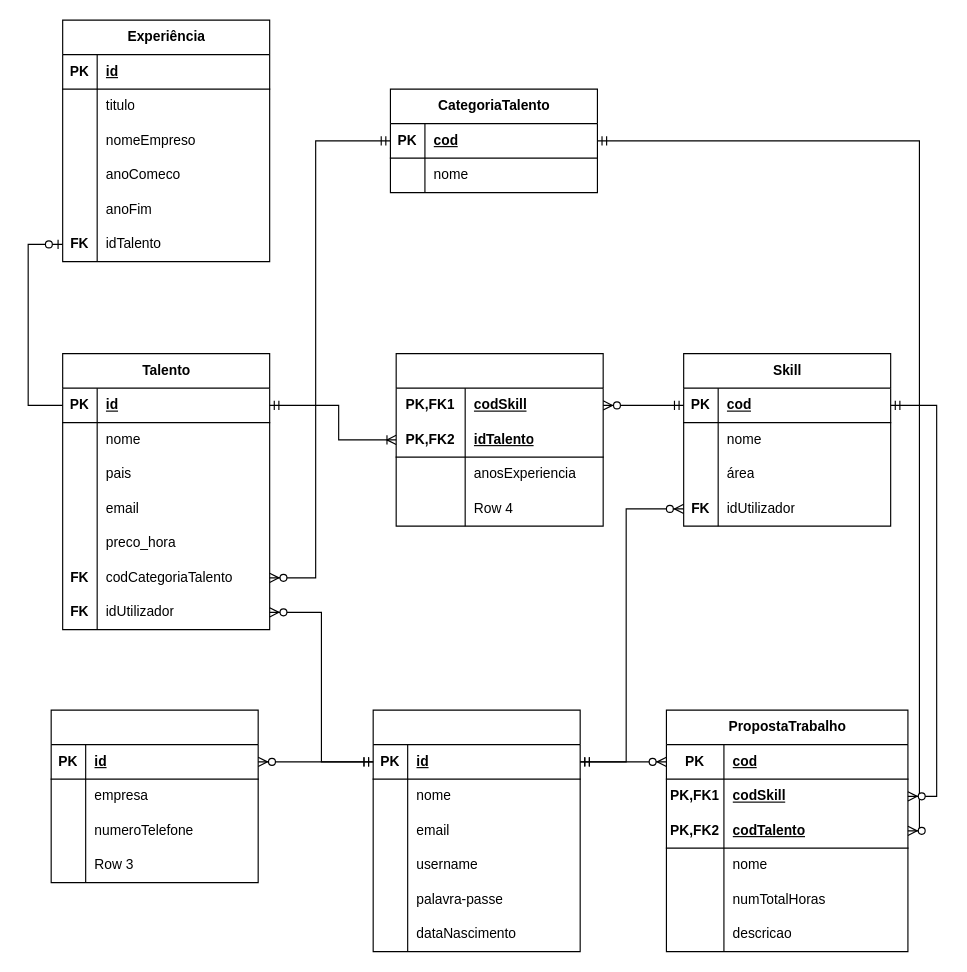
This 967x972 diagram has some shape labels left out. The shapes that lost their labels are listed below. From the top down, each one's box as (x1, y1, x2, y2) in pixels, then its label:
(395, 352, 603, 526): Talento_Skill
(50, 709, 258, 883): Cliente
(372, 709, 580, 952): Utilizador
